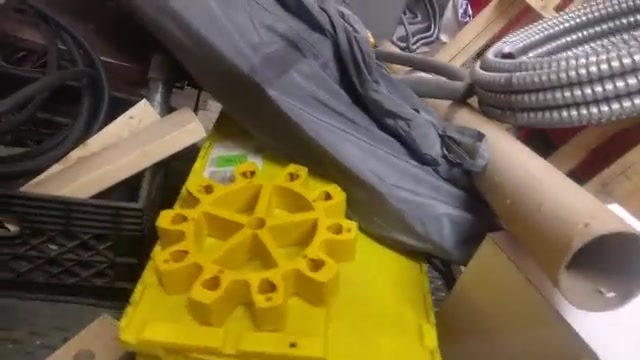gear: (146, 157, 365, 338)
